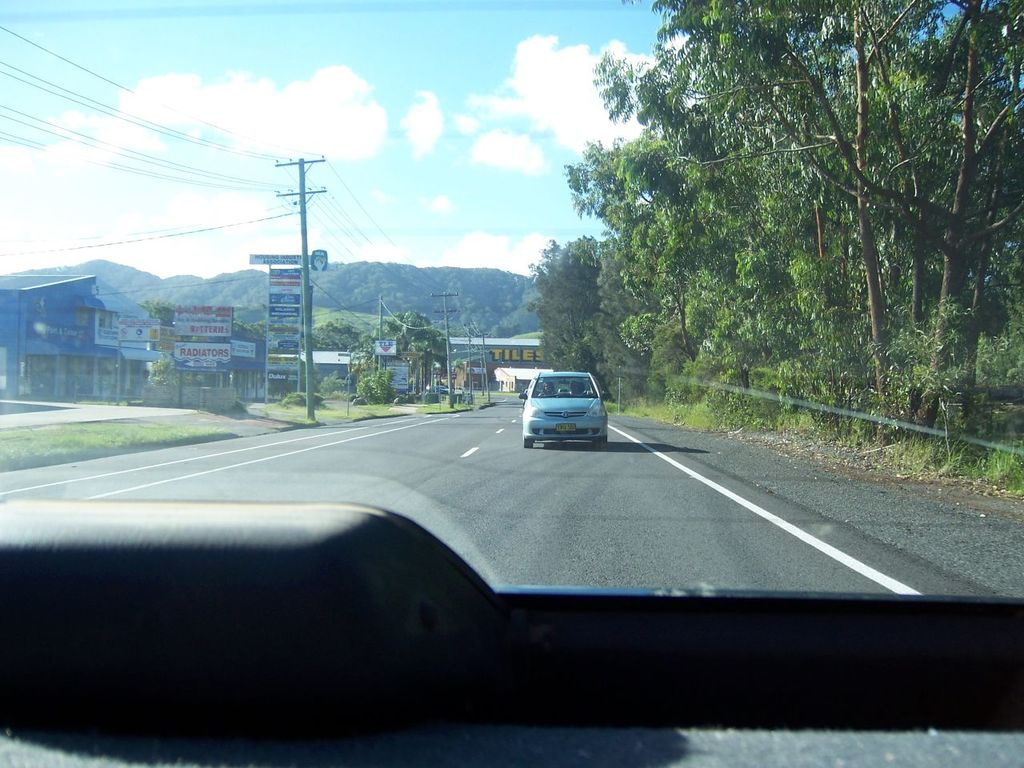Car: (519, 369, 611, 447)
